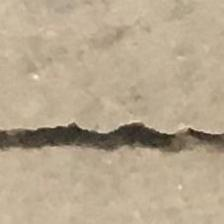Crack: (0, 91, 224, 166)
